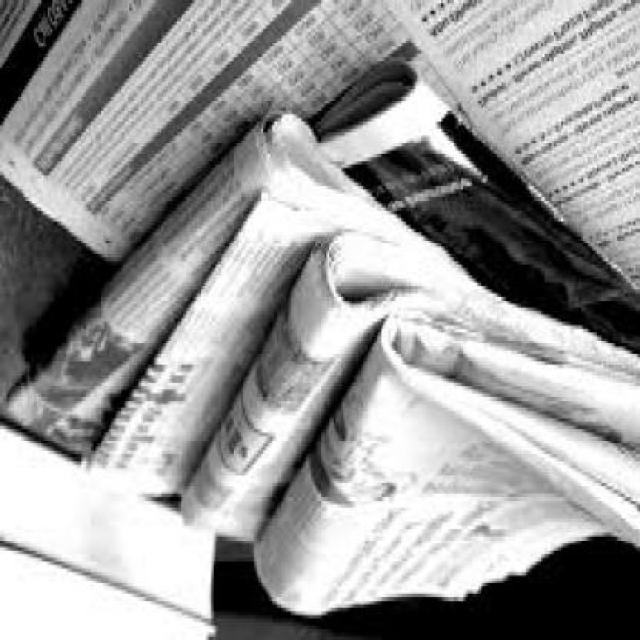PAPER: (5, 118, 506, 465), (0, 4, 638, 268), (175, 232, 638, 537), (80, 211, 508, 500), (252, 318, 638, 622), (312, 61, 638, 361), (0, 430, 222, 638)
